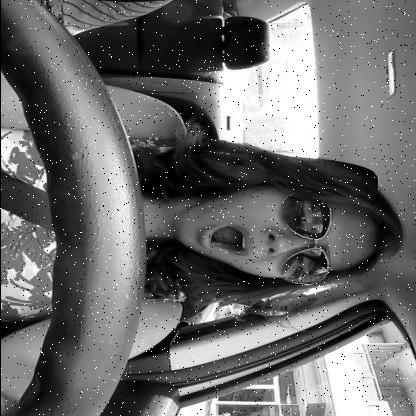seatbelt: (0, 116, 406, 309)
